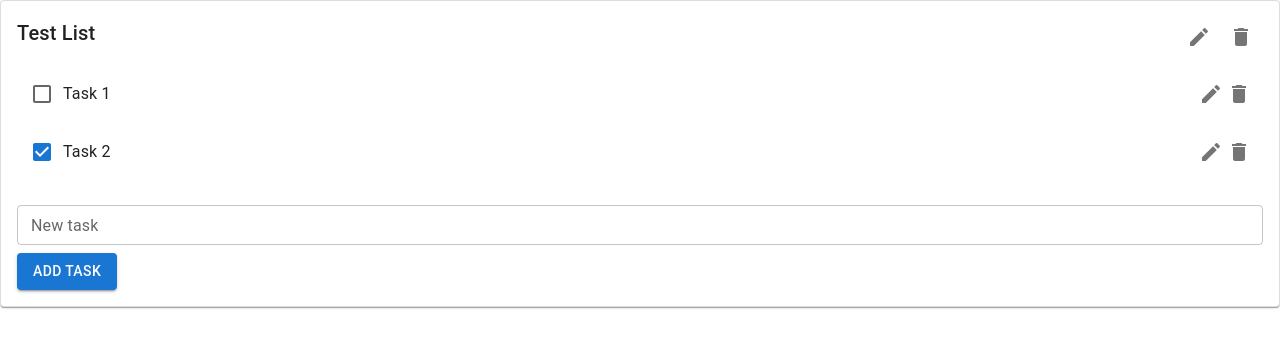
Test: TodoList Component › should handle error when creating a task
Step 1. Type "New Task" into the field labelled "New task" → (640, 225), box [17,205,1263,245]
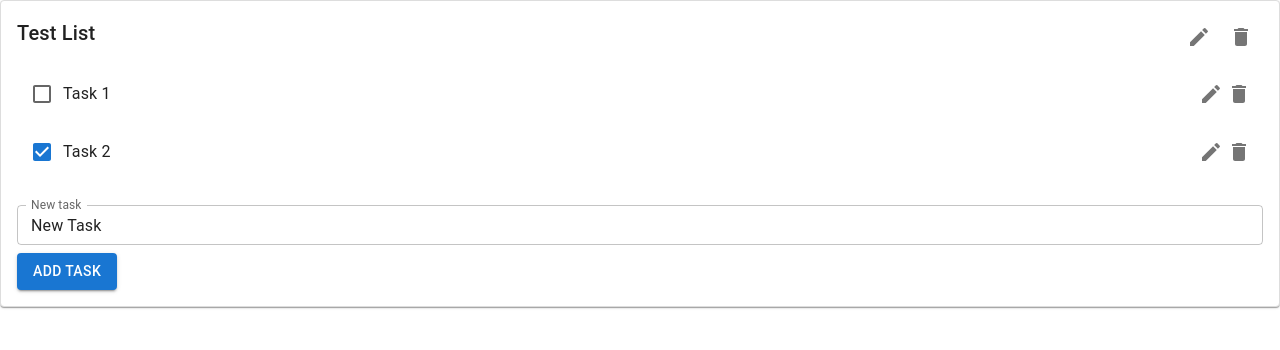
Step 2. Click the button "Add Task" → (67, 271), box [17,253,117,290]
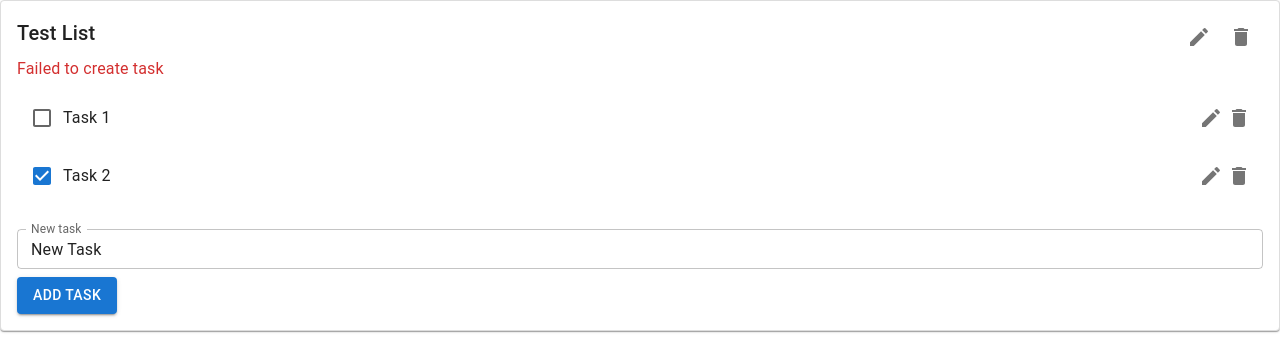
Now the text "Failed to create task" is shown, box [17,59,164,78]
